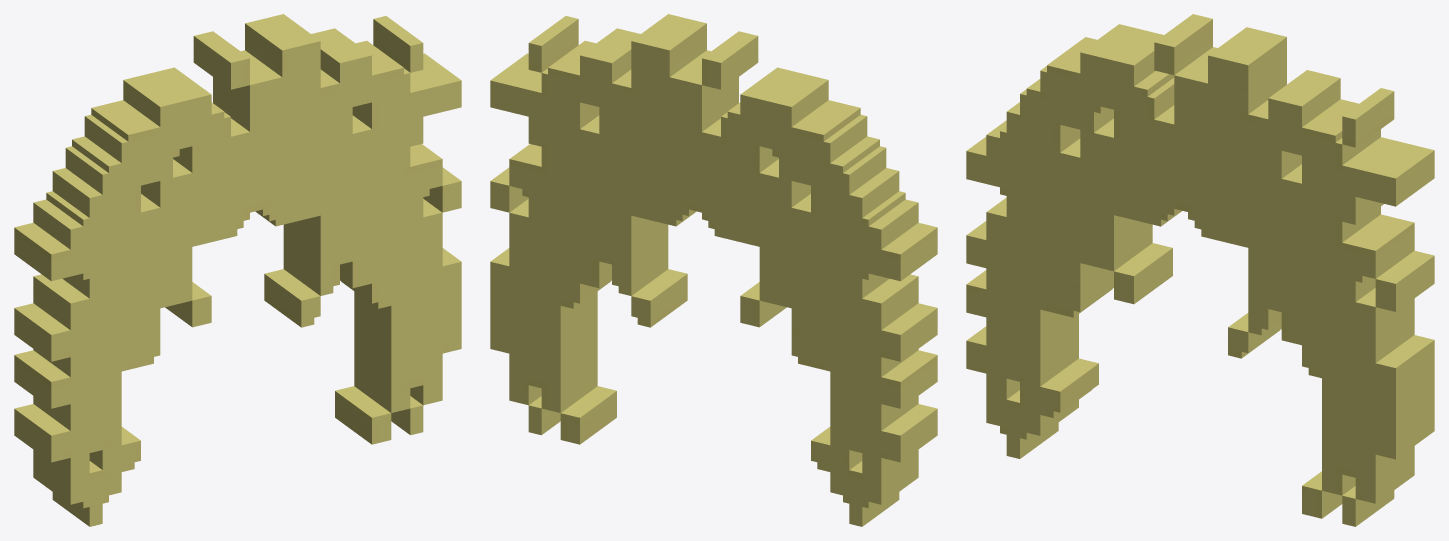
The picture shows the model from 3 angles, left to right: view 1: azimuth 30°, elevation 25°; view 2: azimuth 150°, elevation 25°; view 3: azimuth 330°, elevation 25°; orthographic projection. The views are drawn at different scales.
Visible parts, largest first — view 1: wearable_420; view 2: wearable_420; view 3: wearable_420.
Part boxes in pixels (x1,y1,x2,y2): wearable_420: [14, 14, 461, 526]; wearable_420: [490, 14, 937, 526]; wearable_420: [966, 14, 1434, 526].
Size of the model in its own units: 2 by 2 by 0.3125.
